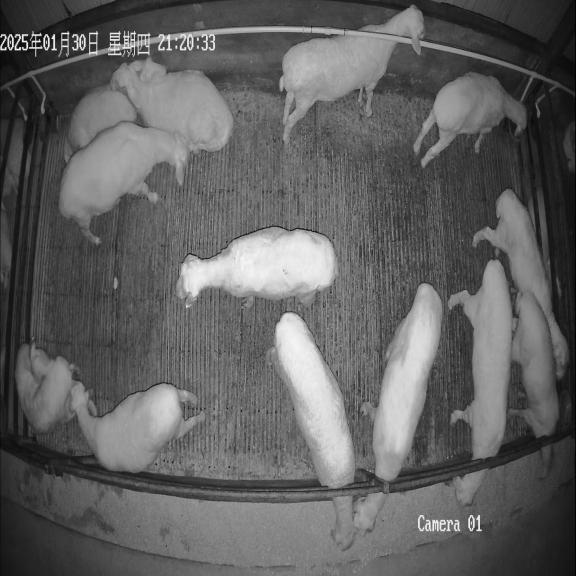drinking: (414, 72, 526, 168)
eating: (353, 283, 443, 534), (266, 312, 360, 550), (448, 259, 513, 506), (508, 292, 559, 477)
lying: (110, 63, 233, 151), (63, 58, 167, 161), (15, 343, 77, 433)
stand: (279, 5, 424, 145), (473, 189, 568, 378), (59, 122, 190, 244), (175, 227, 339, 308), (71, 381, 205, 473)
